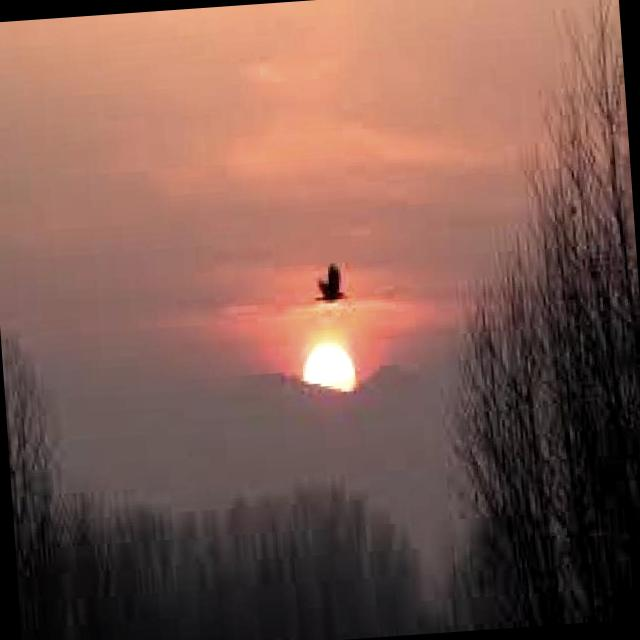bird: (306, 256, 349, 306)
